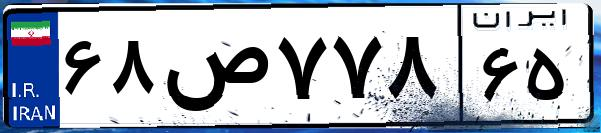5: (525, 38, 570, 115)
6: (57, 26, 110, 100), (475, 38, 525, 113)
7: (270, 28, 330, 110), (330, 28, 385, 110)
8: (385, 28, 445, 110), (110, 28, 158, 98)
ص: (158, 20, 270, 120)
